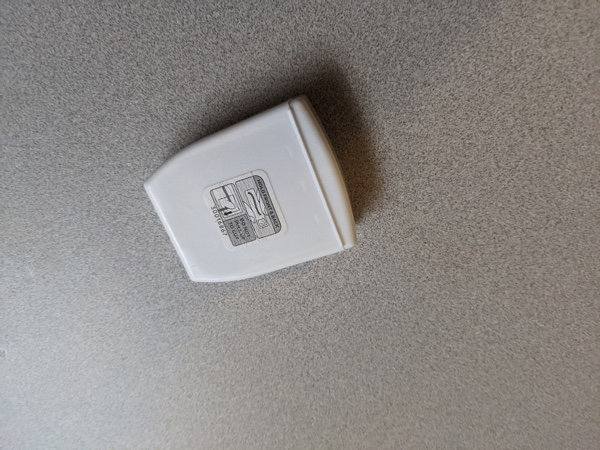plastic: (136, 79, 385, 318)
